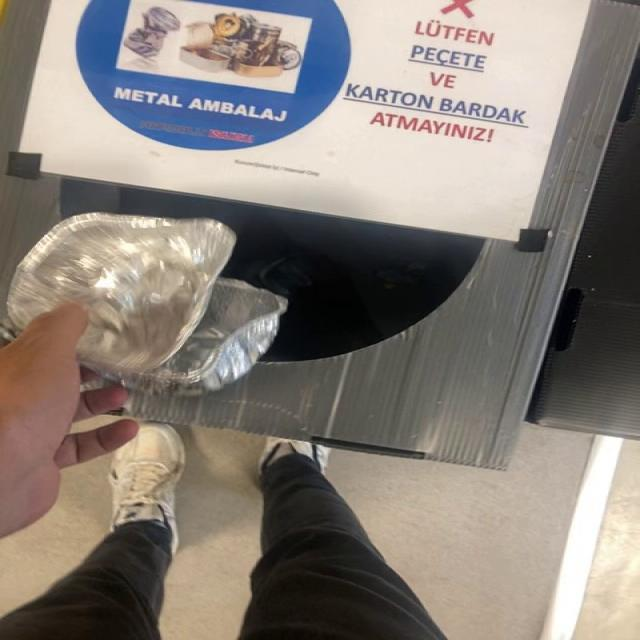metal: (7, 213, 287, 396)
